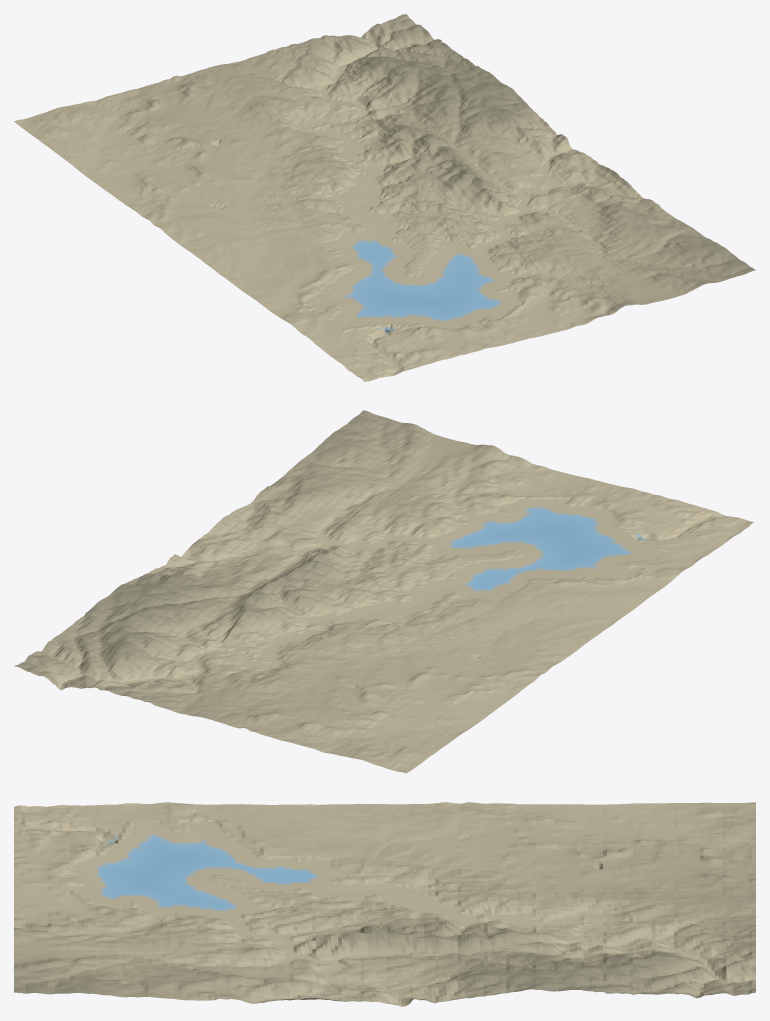
Rendered from folsom_lake_ca.glb.
3 views of the same model, one above another, from view 1: azimuth 30°, elevation 25°; view 2: azimuth 150°, elevation 25°; view 3: azimuth 270°, elevation 25° (orthographic). The views are drawn at different scales.
Visible parts, largest first — view 1: terrain, water; view 2: terrain, water; view 3: terrain, water.
Boxes of the visible parts, bbox=[...] form: terrain: bbox=[14, 14, 755, 381]; water: bbox=[348, 241, 499, 329]; terrain: bbox=[14, 410, 753, 773]; water: bbox=[452, 508, 647, 590]; terrain: bbox=[14, 802, 755, 1006]; water: bbox=[99, 835, 315, 909].
Bounding box in the file's own units: 12236 × 625 × 18906.
